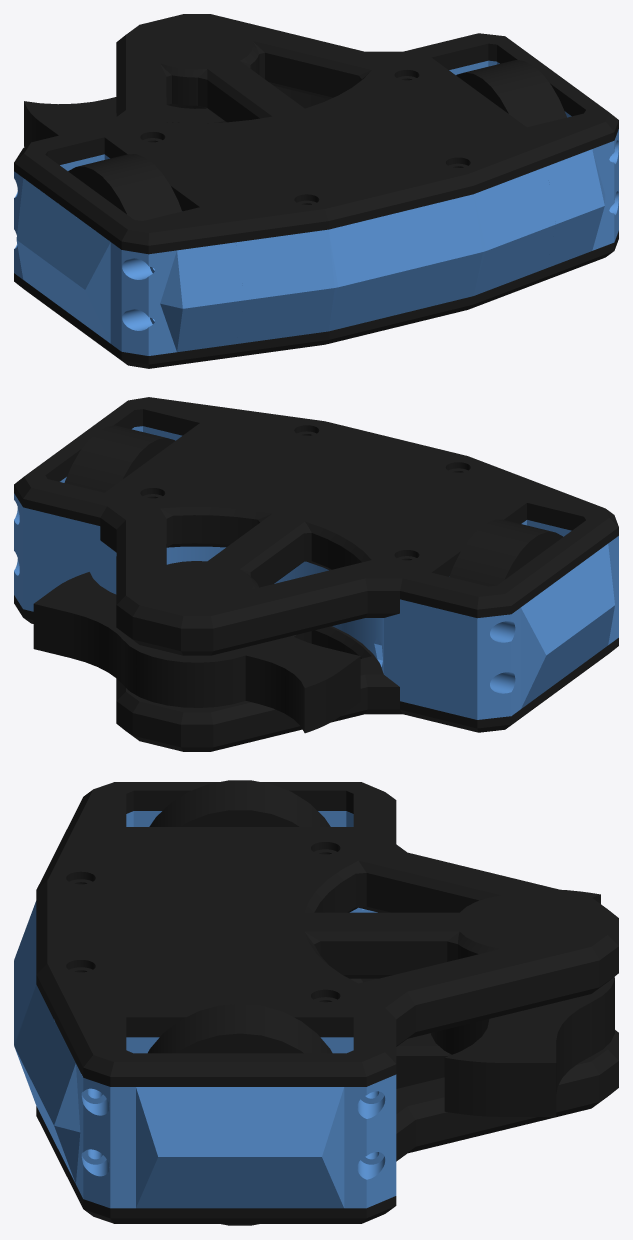
The picture shows the model from 3 angles, top to bottom: view 1: azimuth 30°, elevation 25°; view 2: azimuth 150°, elevation 25°; view 3: azimuth 270°, elevation 25°; orthographic projection. The views are drawn at different scales.
Parts seen in each view (by area): view 1: anim_bb1_10_Top_Plate_1, anim_bb1_20_Center_frame_1, anim_bb1_13_Left_wheel_guard_1, anim_bb1_11_Bottom_Plate_1, anim_bb1_14_Right_wheel_guard_1, anim_bb1_1_Wheel_assembly_1__1, anim_bb1_12_Weapon_Blade_1, anim_bb1_2_Wheel_assembly_2__1; view 2: anim_bb1_10_Top_Plate_1, anim_bb1_13_Left_wheel_guard_1, anim_bb1_12_Weapon_Blade_1, anim_bb1_11_Bottom_Plate_1, anim_bb1_14_Right_wheel_guard_1, anim_bb1_20_Center_frame_1, anim_bb1_1_Wheel_assembly_1__1, anim_bb1_2_Wheel_assembly_2__1; view 3: anim_bb1_10_Top_Plate_1, anim_bb1_14_Right_wheel_guard_1, anim_bb1_11_Bottom_Plate_1, anim_bb1_12_Weapon_Blade_1, anim_bb1_2_Wheel_assembly_2__1, anim_bb1_1_Wheel_assembly_1__1, anim_bb1_20_Center_frame_1, anim_bb1_13_Left_wheel_guard_1.
Part boxes in pixels (x1,y1,x2,y2): anim_bb1_10_Top_Plate_1: (14,14,618,254); anim_bb1_20_Center_frame_1: (235,166,555,343); anim_bb1_13_Left_wheel_guard_1: (14,154,245,355); anim_bb1_11_Bottom_Plate_1: (14,231,618,368); anim_bb1_14_Right_wheel_guard_1: (449,60,618,267); anim_bb1_1_Wheel_assembly_1__1: (68,154,181,220); anim_bb1_12_Weapon_Blade_1: (24,86,328,146); anim_bb1_2_Wheel_assembly_2__1: (456,60,566,127); anim_bb1_10_Top_Plate_1: (14,397,618,655); anim_bb1_13_Left_wheel_guard_1: (405,520,618,719); anim_bb1_12_Weapon_Blade_1: (33,572,360,733); anim_bb1_11_Bottom_Plate_1: (14,595,618,751); anim_bb1_14_Right_wheel_guard_1: (14,426,182,611); anim_bb1_20_Center_frame_1: (95,525,405,702); anim_bb1_1_Wheel_assembly_1__1: (449,519,562,586); anim_bb1_2_Wheel_assembly_2__1: (64,425,175,492); anim_bb1_10_Top_Plate_1: (36,782,618,1086); anim_bb1_14_Right_wheel_guard_1: (38,1033,396,1208); anim_bb1_11_Bottom_Plate_1: (36,978,618,1223); anim_bb1_12_Weapon_Blade_1: (431,889,614,1116); anim_bb1_2_Wheel_assembly_2__1: (148,1003,332,1225); anim_bb1_1_Wheel_assembly_1__1: (149,780,330,826); anim_bb1_20_Center_frame_1: (14,901,377,1151); anim_bb1_13_Left_wheel_guard_1: (126,811,353,826).
Bounding box in the file's own units: 0.196 × 0.0572 × 0.1626.
